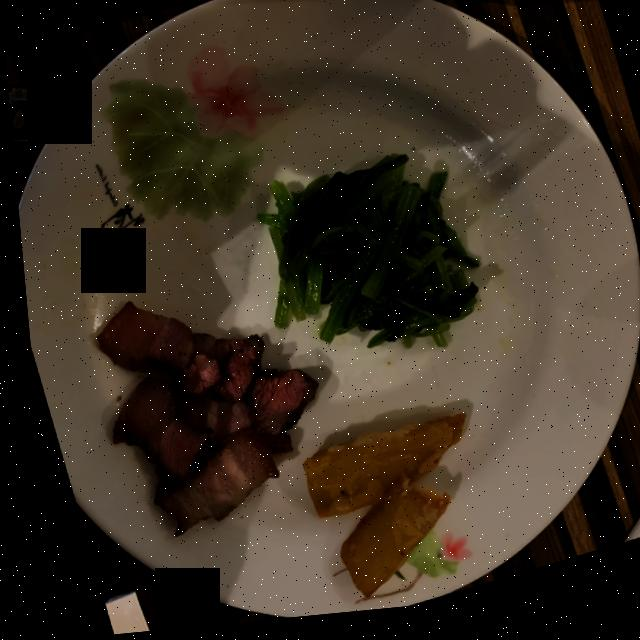coin: (6, 81, 49, 142)
grilled pork: (90, 304, 310, 538)
mustard greens: (252, 161, 475, 355)
